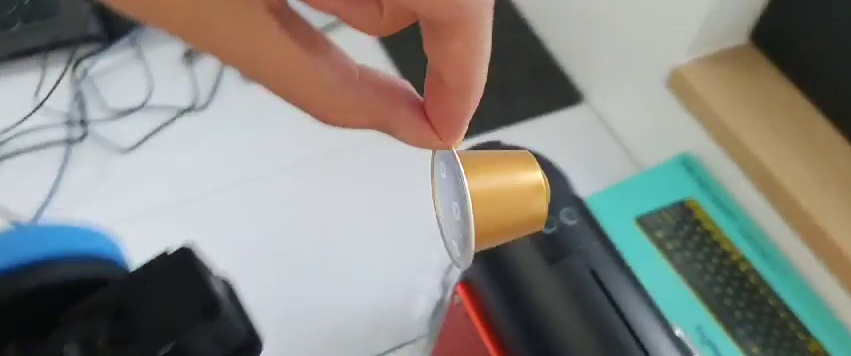capsule_8: (422, 140, 556, 270)
